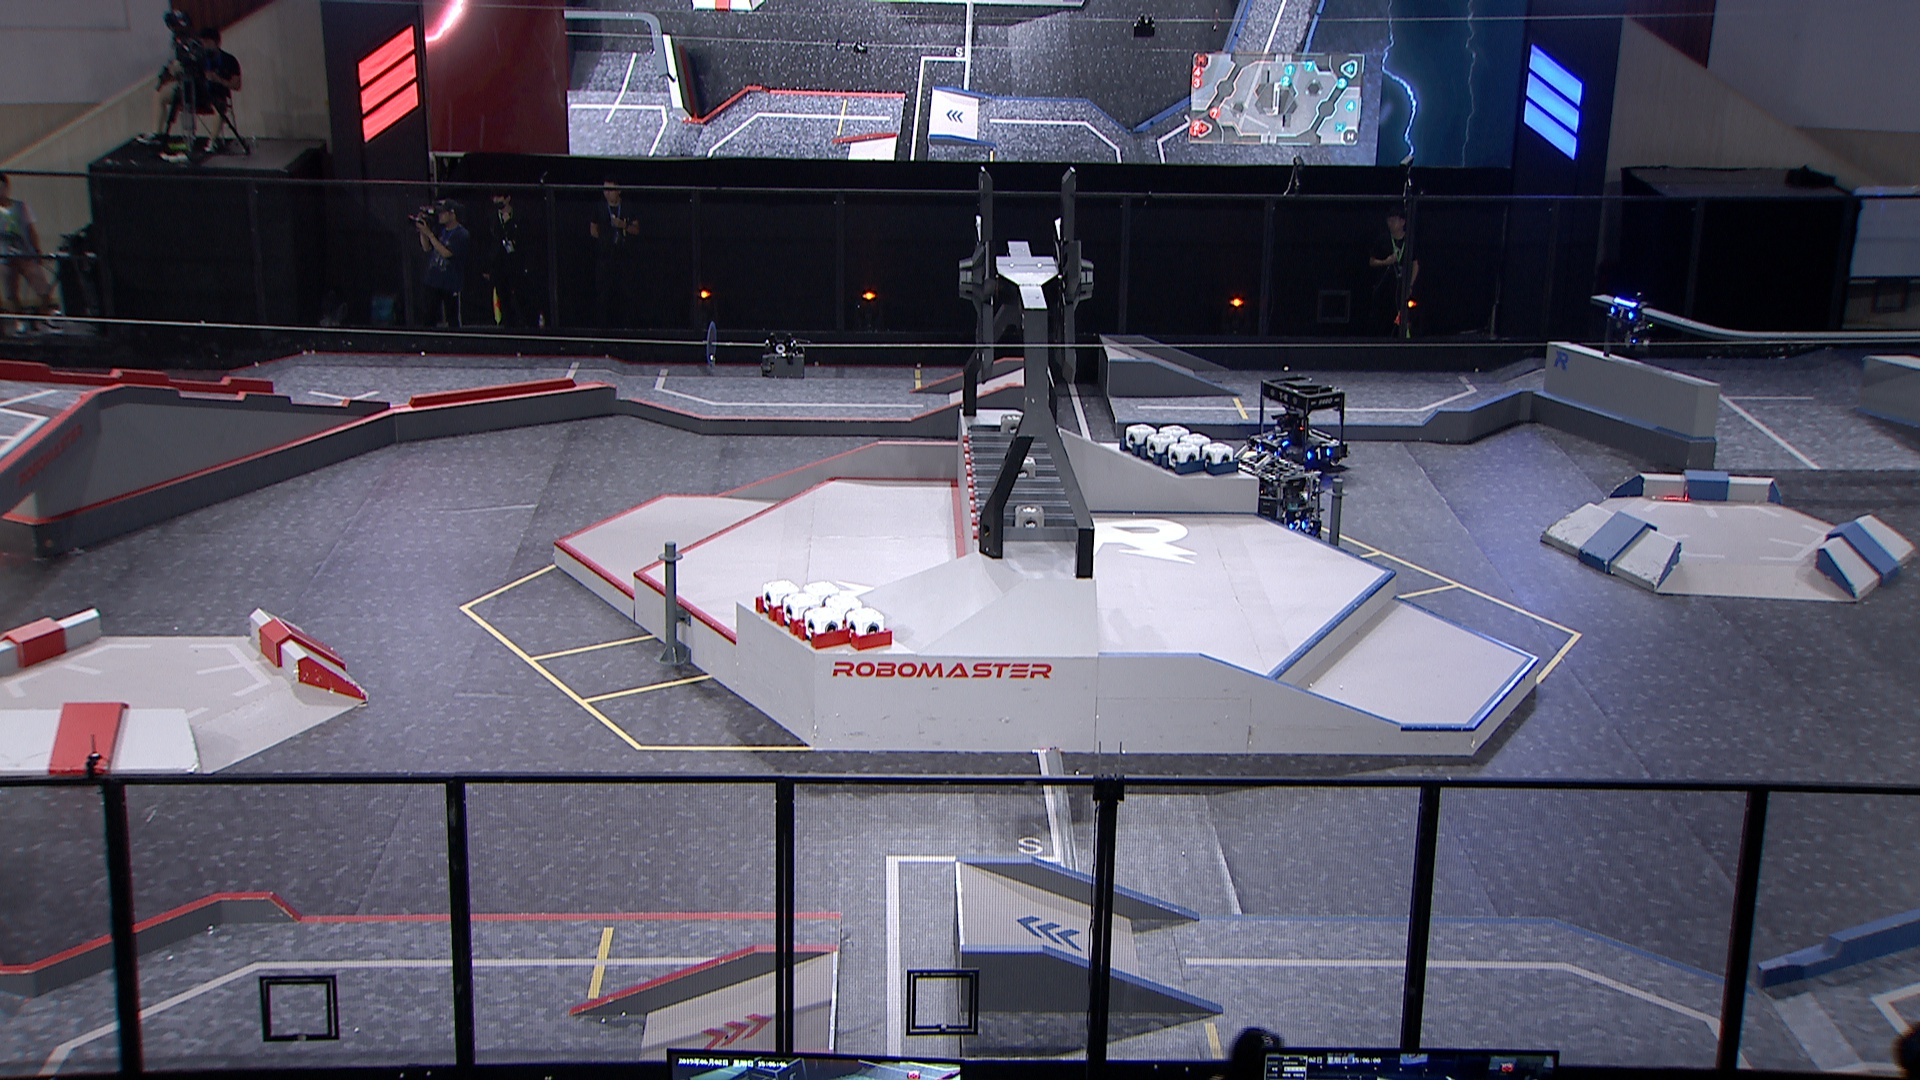armor: (1609, 305, 1636, 320), (1305, 444, 1331, 460), (1267, 431, 1290, 447), (1288, 520, 1305, 533)
car: (1226, 448, 1328, 556), (1247, 376, 1352, 469)
watcher: (1604, 291, 1654, 353)
